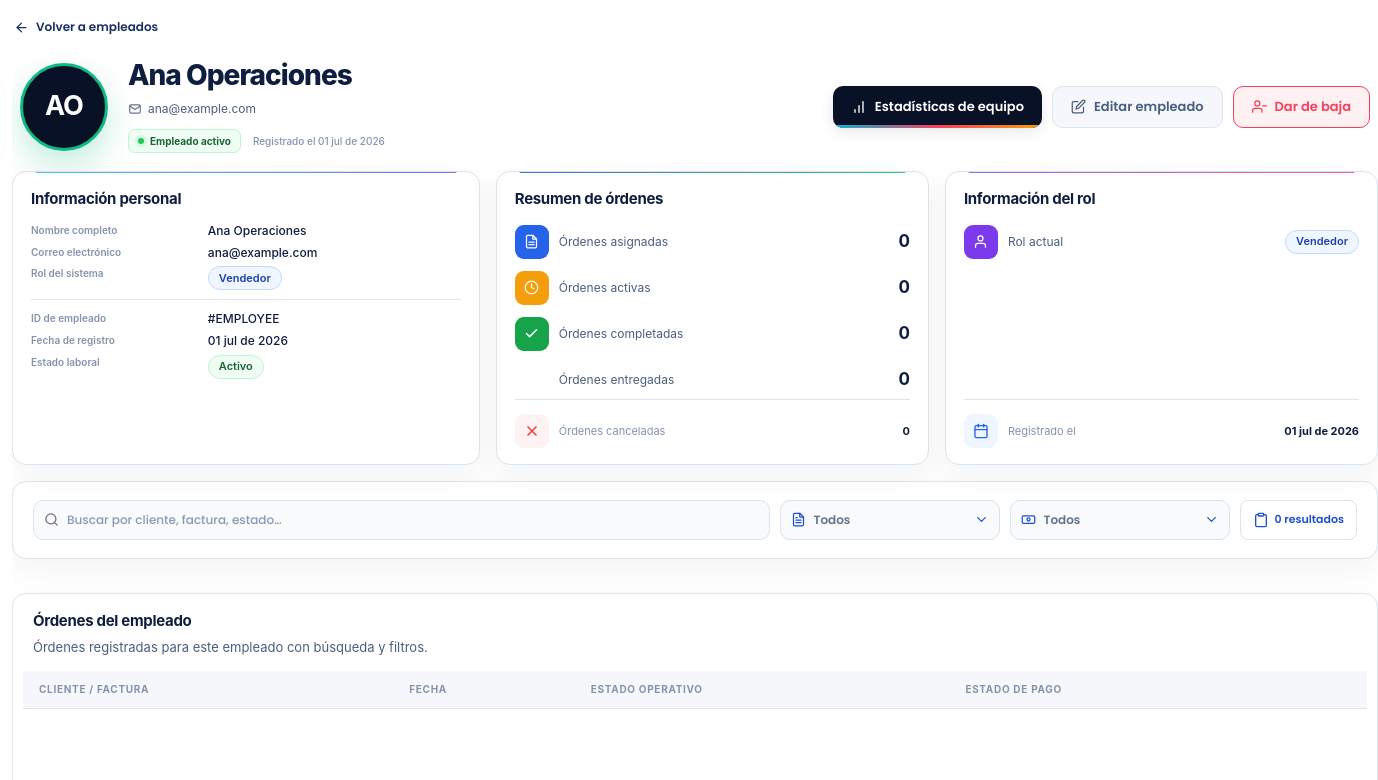
AdminEmployeeTeamModule › returns to the employee detail without losing existing actions
Click the button with aria-label "Abrir estadísticas de equipo" at (937, 107), box [833,86,1042,128]
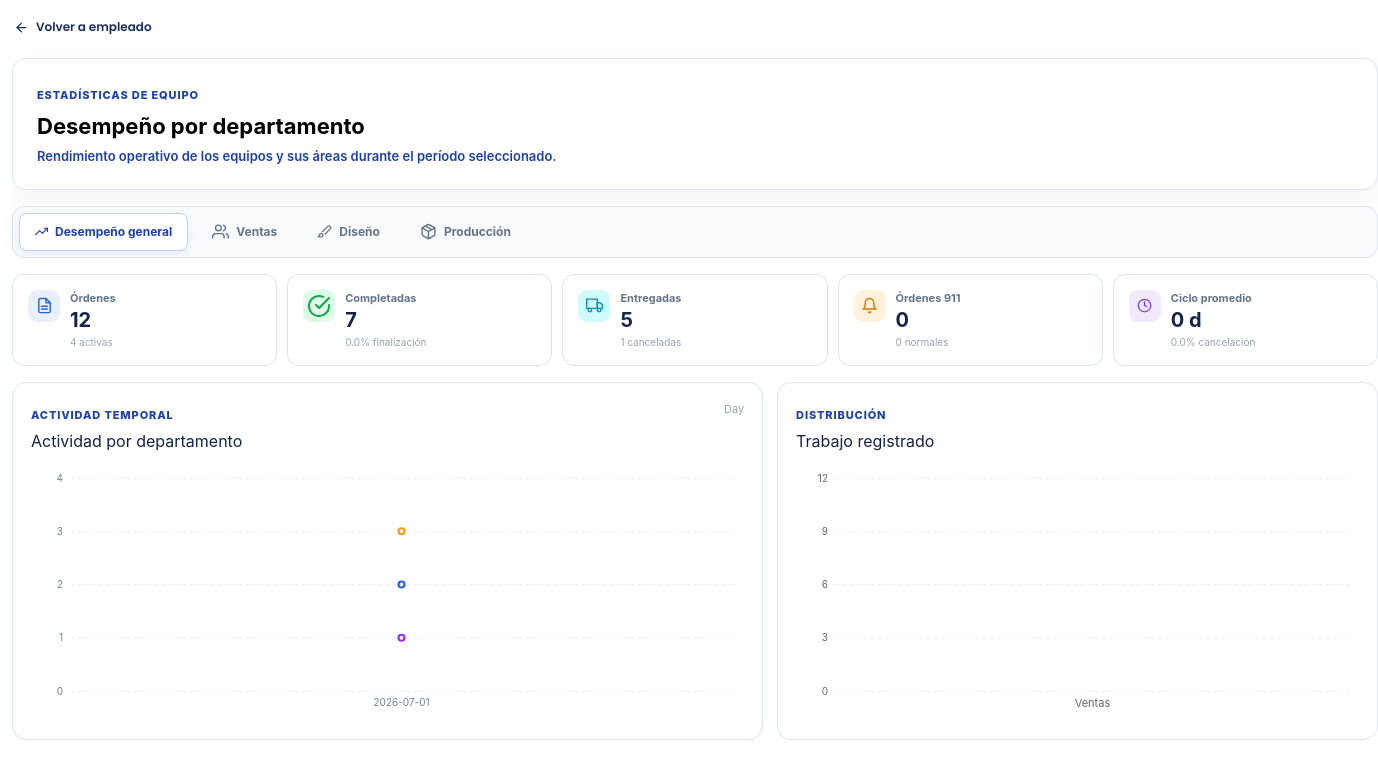
Expected: the heading "Desempeño por departamento" is shown, [37,113,365,139]
Click the button "Volver a empleado" at (83, 27), box [12,12,154,42]
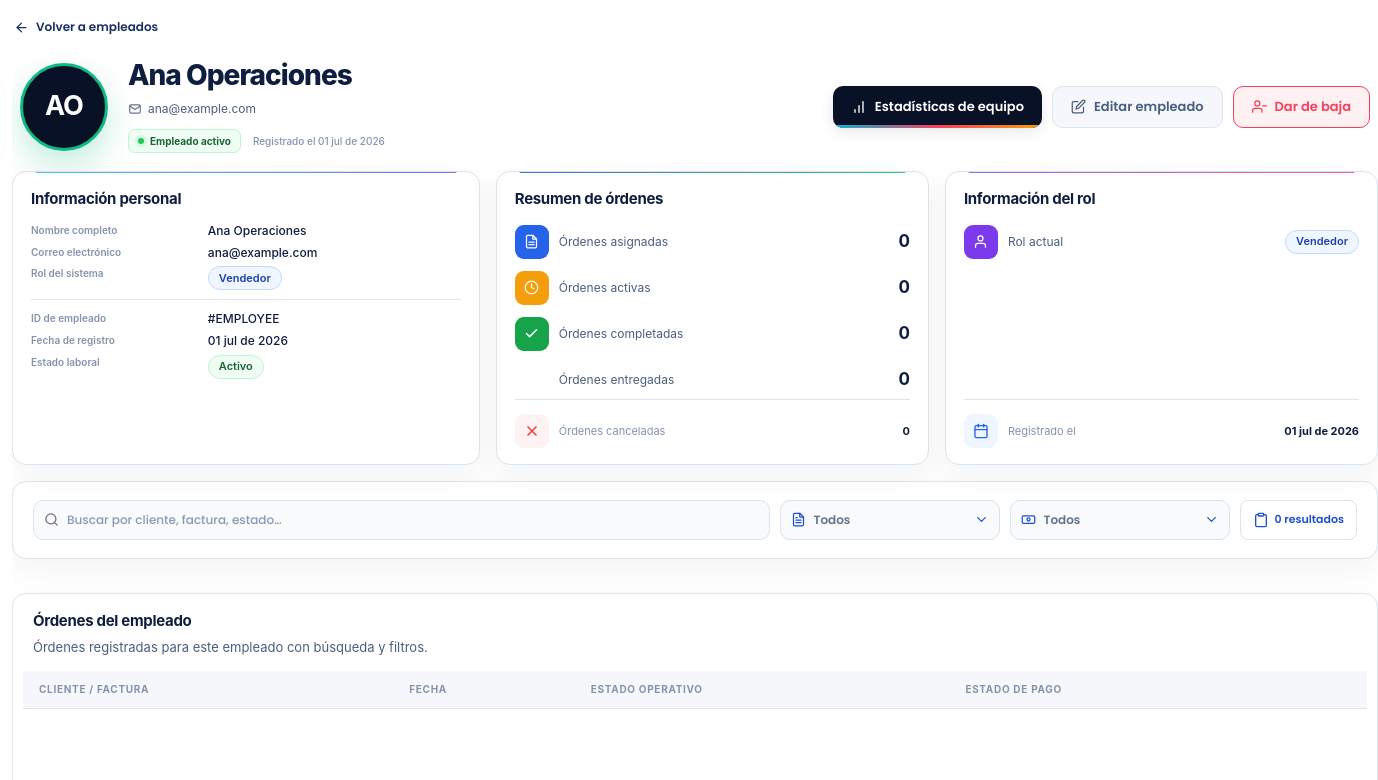
Expected: the button with aria-label "Abrir estadísticas de equipo" is shown, [833,86,1042,128]
Expected: the button "Editar empleado" is shown, [1052,86,1223,128]
